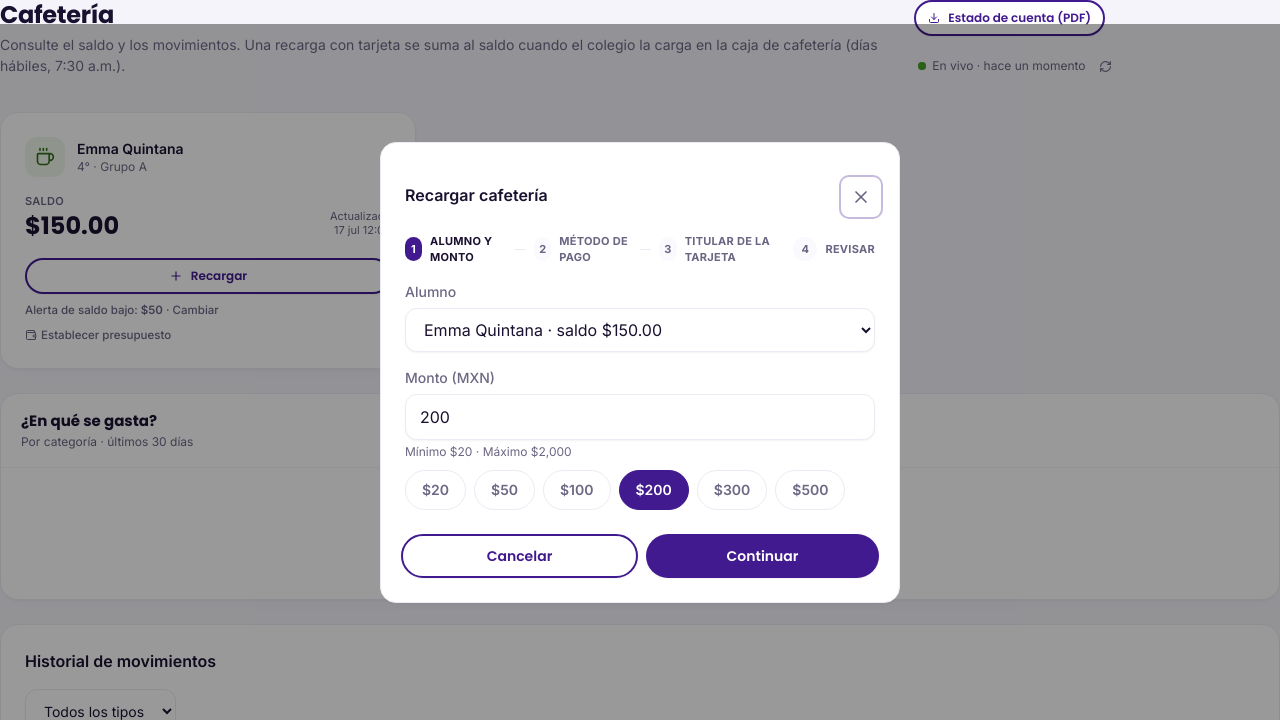
Scenario: CafeteriaPage when card payment is not open yet › says card payment is coming and never offers a cash request
Expected: the dialog "Recargar cafetería" is shown, [380,142,900,602]
Click the button "Continuar": (762, 556) [646,534,879,578]
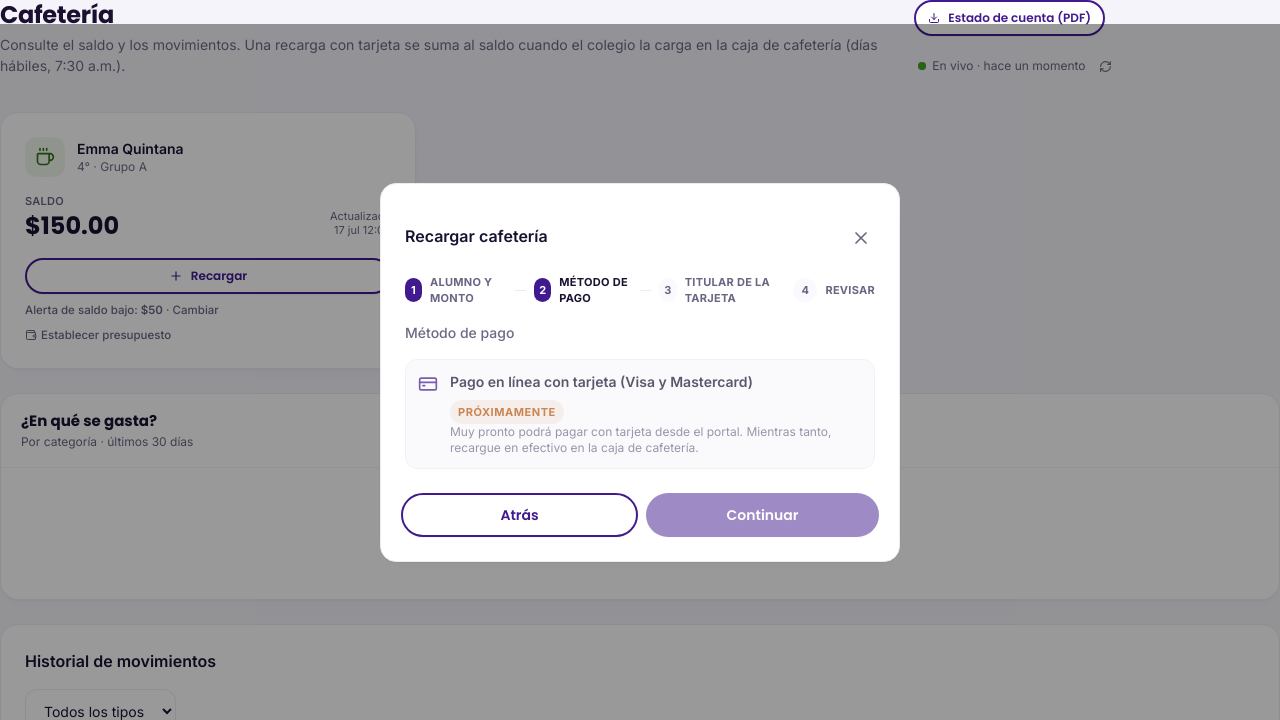
Expected: the text "Próximamente" is shown, [450,400,564,424]
Expected: the text "recargue en efectivo en la caja de cafetería" is shown, [450,424,831,454]
Expected: the button "Continuar" is disabled, [646,492,879,536]
